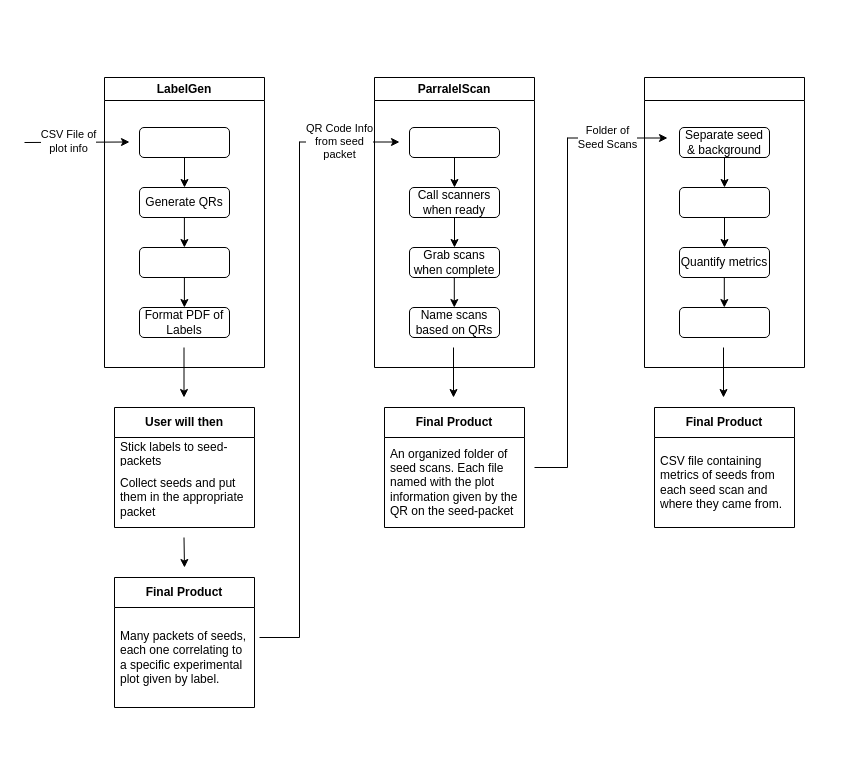
This 842x765 diagram has some shape labels left out. Here are the shapes that lost their labels. From the top down, the box of each, then its label:
(138, 126, 230, 158): Read CSV
(408, 126, 500, 158): Determine the scanners called
(678, 186, 770, 218): Breakup touching seeds
(644, 76, 804, 368): SeedSizer
(138, 246, 230, 278): Generate Labels
(678, 306, 770, 338): Repeat for each file in folder
